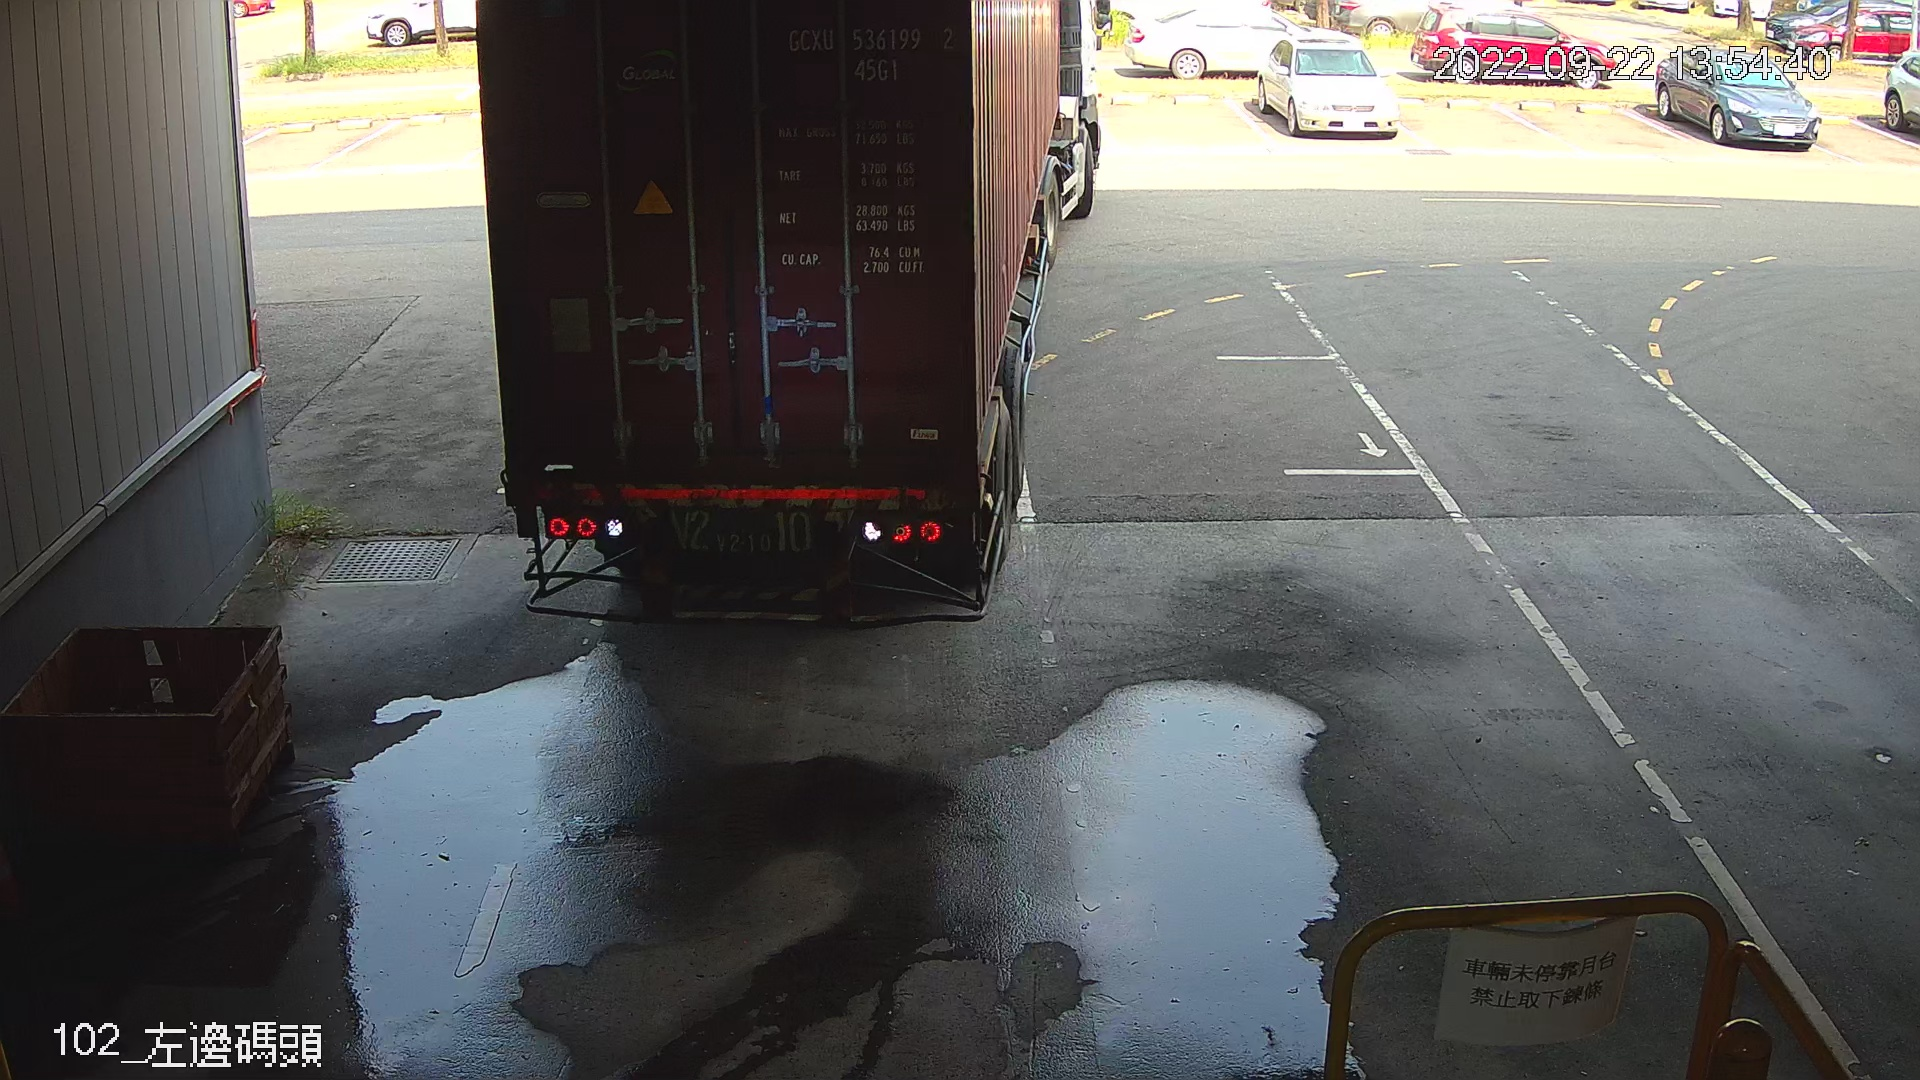container: (775, 15, 964, 88)
